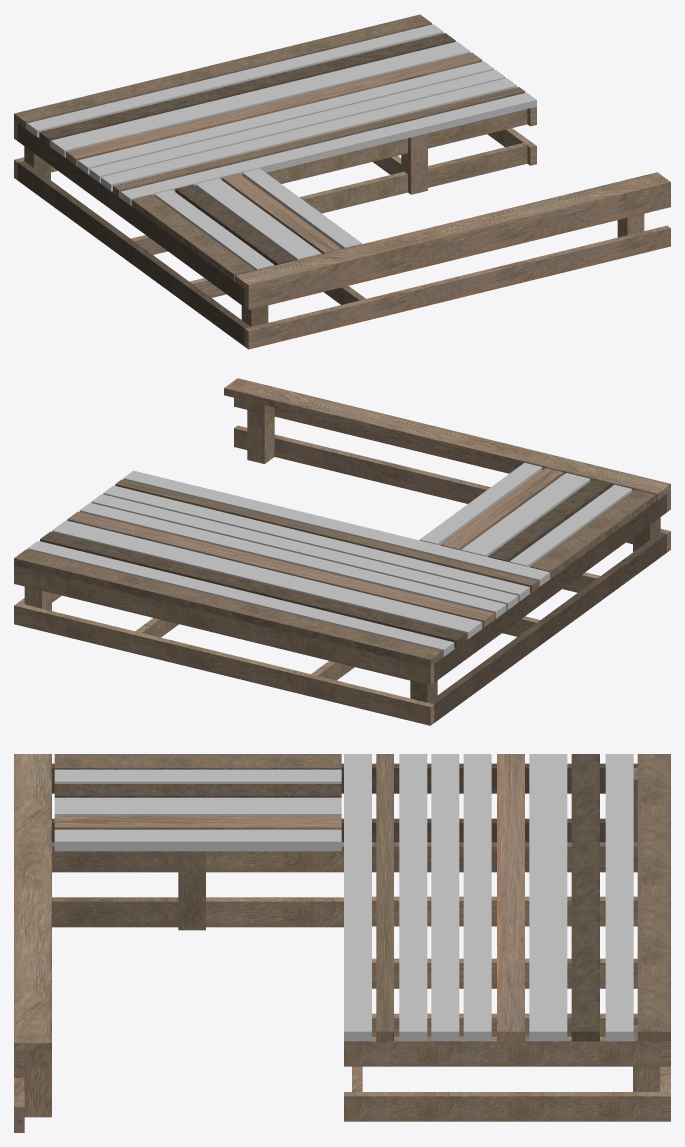
The model's file is WoodFloorPeiceE.fbx.
The picture shows the model from 3 angles, top to bottom: view 1: azimuth 30°, elevation 25°; view 2: azimuth 150°, elevation 25°; view 3: azimuth 270°, elevation 25°; orthographic projection. The views are drawn at different scales.
Visible parts, largest first — view 1: WoodFloorPeiceE; view 2: WoodFloorPeiceE; view 3: WoodFloorPeiceE.
Part boxes in pixels (x1=…): WoodFloorPeiceE: x1=14, y1=14, x2=670, y2=349; WoodFloorPeiceE: x1=14, y1=378, x2=670, y2=725; WoodFloorPeiceE: x1=14, y1=754, x2=670, y2=1132.
Bounding box in the file's own units: 389 × 56.6 × 374.
